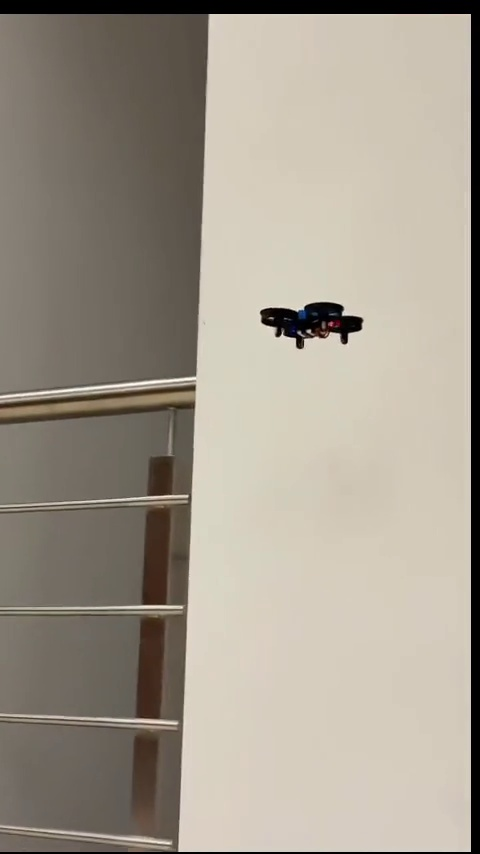drone: (258, 302, 358, 343)
